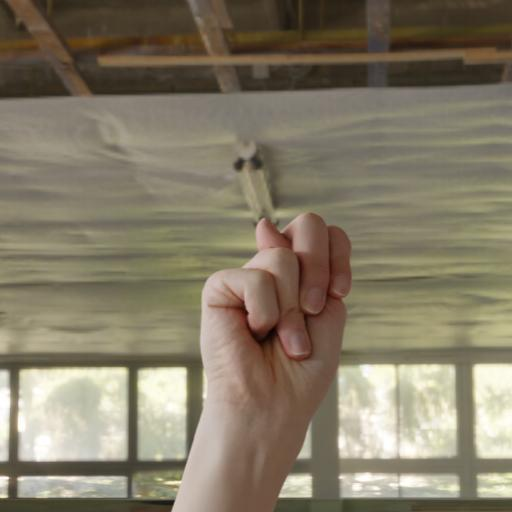N: (195, 204, 365, 424)
